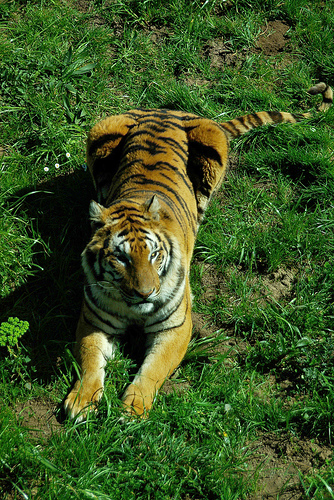Tigre: (59, 92, 234, 432)
